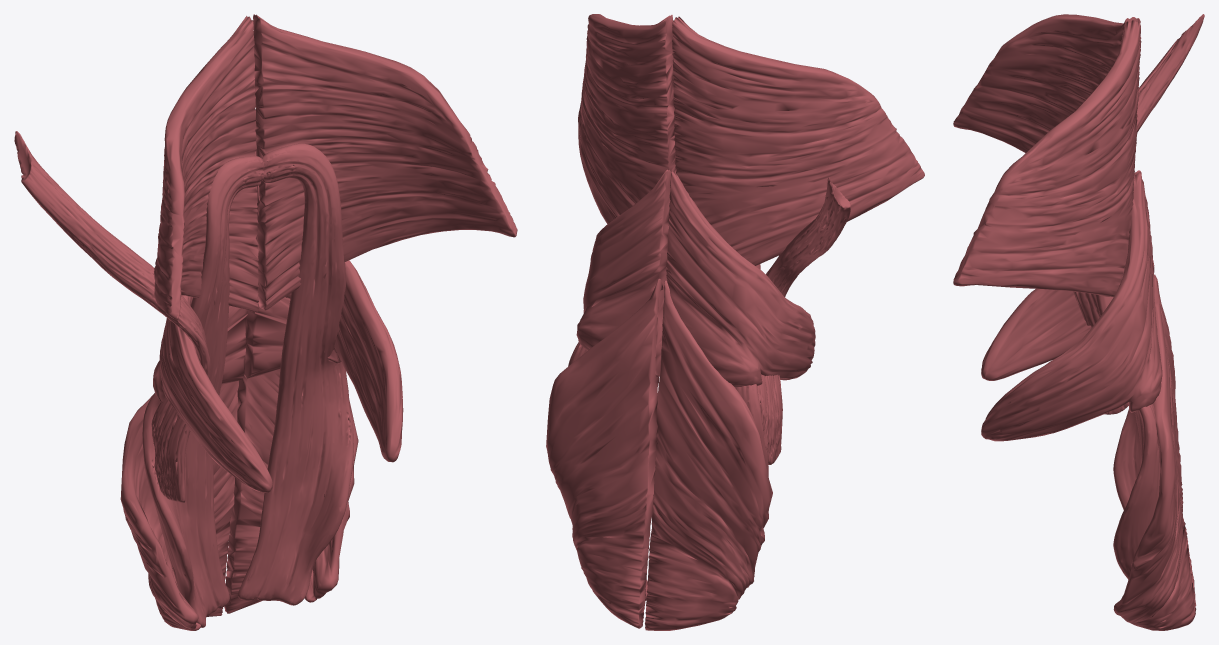
File: detail-muscular-whole-body.glb
3 renders of one model, left to right at view 1: azimuth 30°, elevation 25°; view 2: azimuth 150°, elevation 25°; view 3: azimuth 270°, elevation 25°, orthographic. The views are drawn at different scales.
Visible parts, largest first — view 1: za-9e9faf1f240bd5a1, za-71cc4d76b2f055b0, za-f72ebf99ec528a47, za-060cee0a14679b3d, za-47363e88e4859b26, za-eb2a565eca2b00c1, za-68785e0437ecced8, za-57b99495c1b93377, za-4f39dc07034e14f2; view 2: za-f72ebf99ec528a47, za-57b99495c1b93377, za-4f39dc07034e14f2, za-68785e0437ecced8, za-9e9faf1f240bd5a1, za-47363e88e4859b26, za-eb2a565eca2b00c1, za-060cee0a14679b3d; view 3: za-9e9faf1f240bd5a1, za-47363e88e4859b26, za-f72ebf99ec528a47, za-4f39dc07034e14f2, za-68785e0437ecced8, za-71cc4d76b2f055b0, za-eb2a565eca2b00c1, za-060cee0a14679b3d, za-57b99495c1b93377.
Part boxes in pixels (x1,y1,x2,y2): za-9e9faf1f240bd5a1: (253,14,517,310); za-71cc4d76b2f055b0: (238,143,353,605); za-f72ebf99ec528a47: (154,16,259,319); za-060cee0a14679b3d: (142,155,264,627); za-47363e88e4859b26: (244,185,403,462); za-eb2a565eca2b00c1: (14,131,210,502); za-68785e0437ecced8: (153,295,272,492); za-57b99495c1b93377: (120,380,238,630); za-4f39dc07034e14f2: (224,369,358,613); za-f72ebf99ec528a47: (672,16,924,265); za-57b99495c1b93377: (645,280,772,630); za-4f39dc07034e14f2: (546,279,663,628); za-68785e0437ecced8: (666,170,815,387); za-9e9faf1f240bd5a1: (578,14,676,223); za-47363e88e4859b26: (576,169,671,377); za-eb2a565eca2b00c1: (757,177,850,464); za-060cee0a14679b3d: (735,264,768,475); za-9e9faf1f240bd5a1: (953,20,1141,296); za-47363e88e4859b26: (981,173,1162,441); za-f72ebf99ec528a47: (953,14,1141,163); za-4f39dc07034e14f2: (1113,278,1196,630); za-68785e0437ecced8: (981,170,1154,380); za-71cc4d76b2f055b0: (1095,294,1160,579); za-eb2a565eca2b00c1: (1073,14,1204,414); za-060cee0a14679b3d: (1113,409,1141,509); za-57b99495c1b93377: (1154,274,1196,606).
Size of the model in its own units: 0.074 by 0.1145 by 0.0437.
